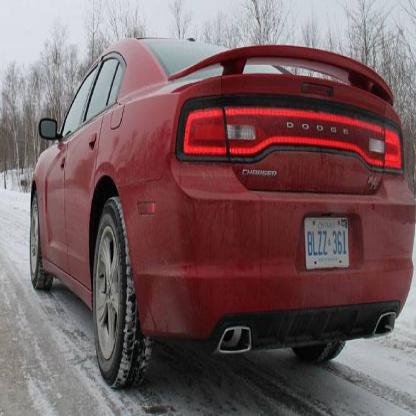Vehicle: (26, 31, 415, 392)
